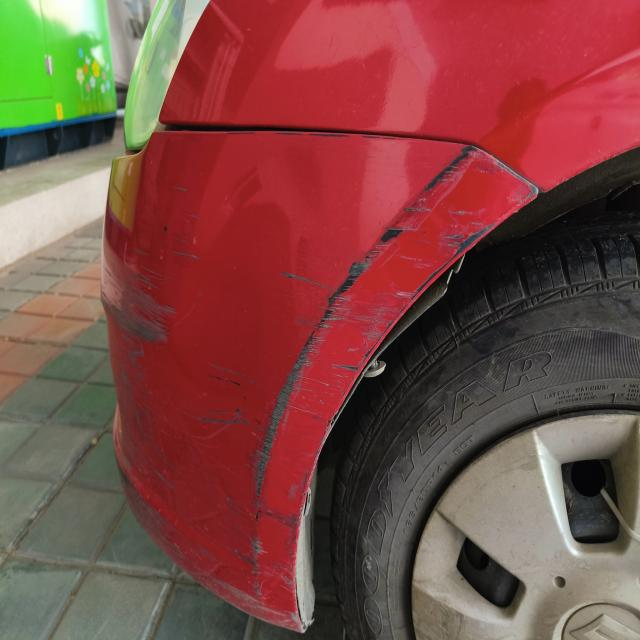scratch: (281, 142, 539, 381), (246, 388, 298, 631), (100, 251, 181, 341), (184, 362, 252, 431)
